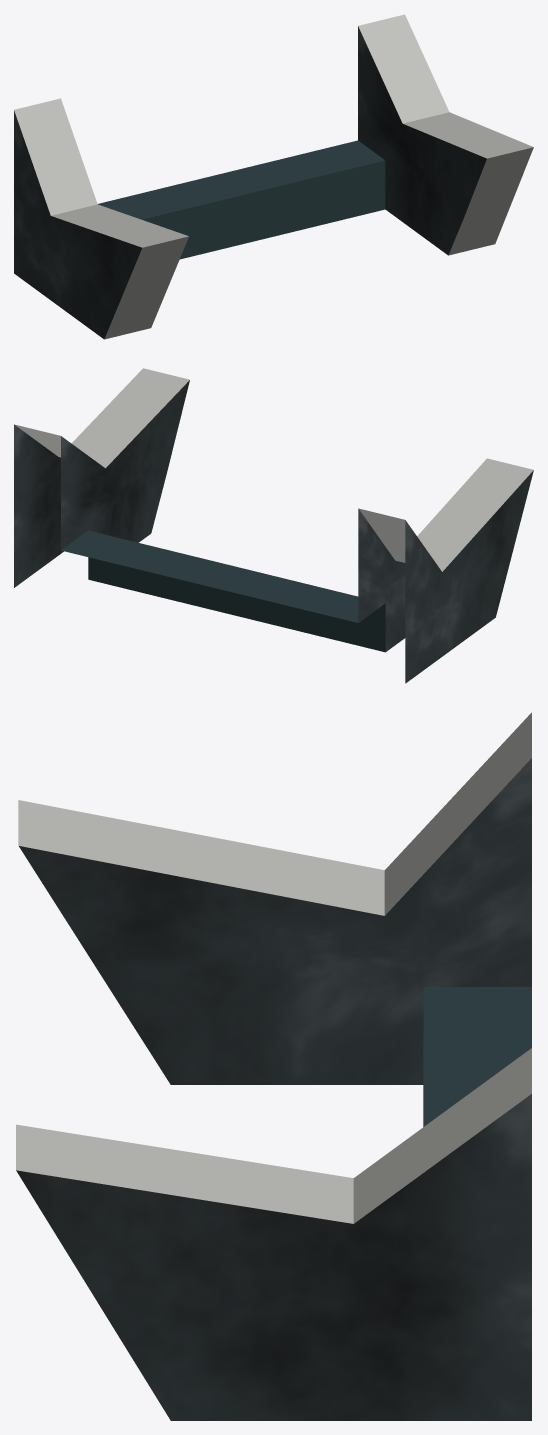
Rendered from OT_050_051_broken_wall_corner_out_deco.glb.
The picture shows the model from 3 angles, top to bottom: view 1: azimuth 30°, elevation 25°; view 2: azimuth 150°, elevation 25°; view 3: azimuth 270°, elevation 25°; orthographic projection. The views are drawn at different scales.
Parts seen in each view (by area): view 1: broken_wall_corner; view 2: broken_wall_corner; view 3: broken_wall_corner.
Part boxes in pixels (x1,y1,x2,y2): broken_wall_corner: (14, 14, 533, 339); broken_wall_corner: (14, 368, 533, 683); broken_wall_corner: (16, 712, 531, 1420).
Bounding box in the file's own units: 0.75 × 0.3 × 0.4286.
Materials: 3 (1 with a texture image).
